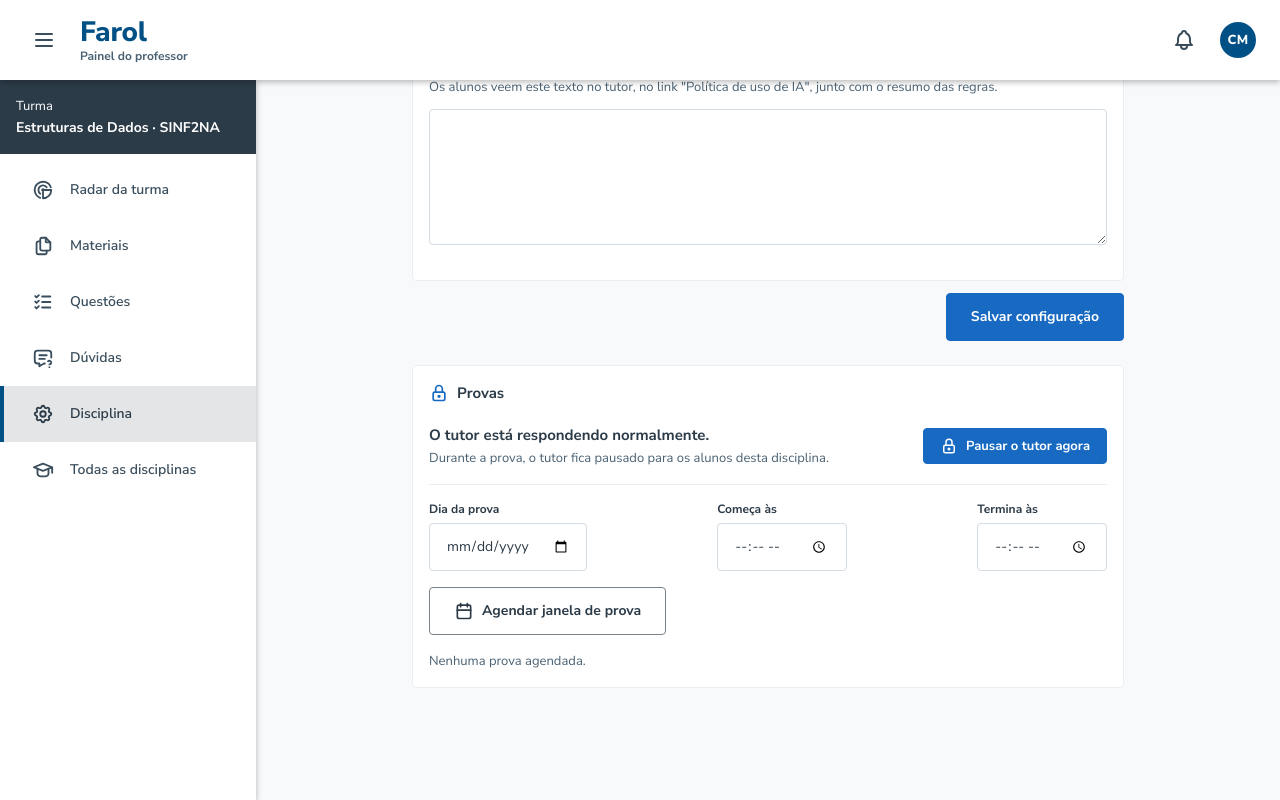
janelas de prova no painel do professor (TUT-T52) › pausa o tutor na hora e depois desliga o modo prova
(page scrolled)
Click the button "Pausar o tutor agora" at (1015,446), box [923,428,1107,464]
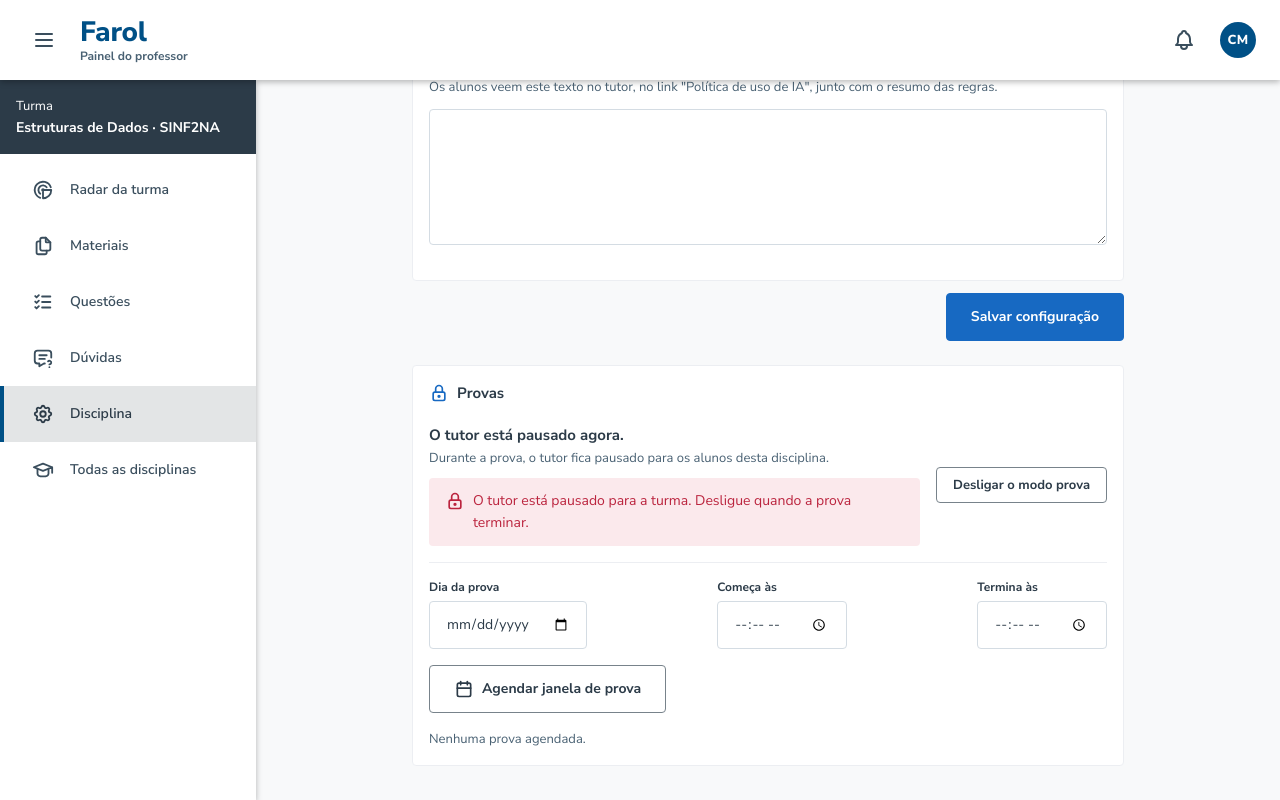
expect the text "O tutor está pausado agora." is shown: met, box [429,425,624,445]
Click the button "Desligar o modo prova" at (1022,485), box [936,467,1107,503]
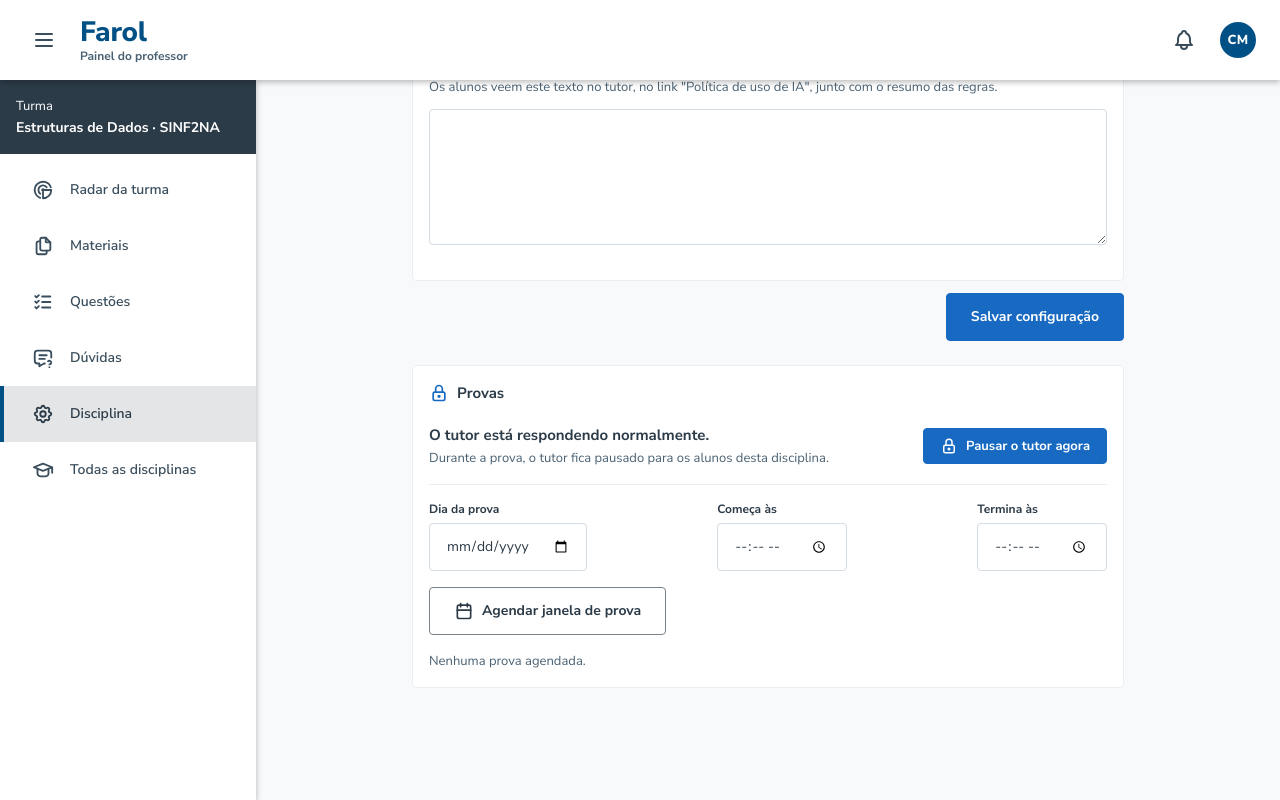
expect the text "O tutor está respondendo normalmente." is shown: met, box [429,425,709,445]
